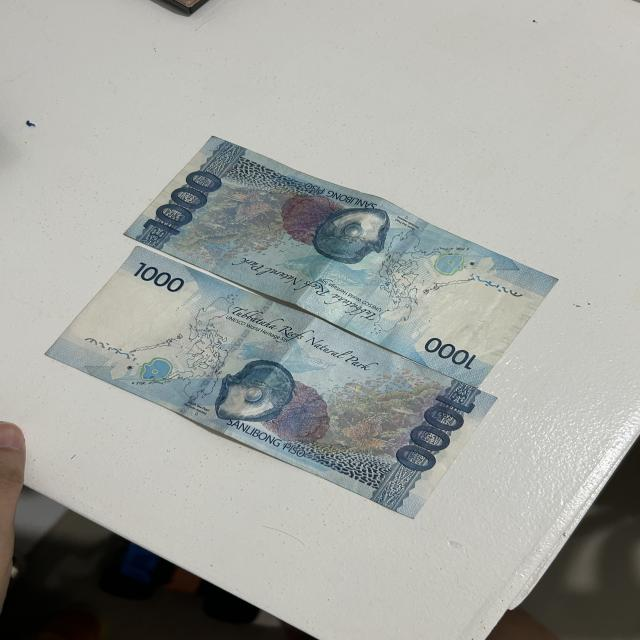1000_pearl: (221, 358, 298, 427), (314, 207, 379, 260)
1000_pearl_watermark: (139, 357, 175, 380), (436, 252, 464, 276)
